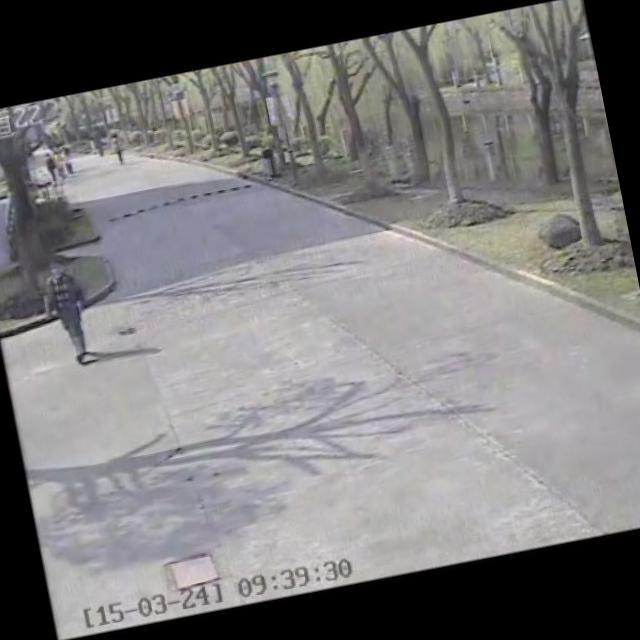person: (32, 246, 104, 386), (38, 145, 61, 185), (106, 132, 128, 168), (58, 142, 82, 174), (50, 144, 68, 182)
